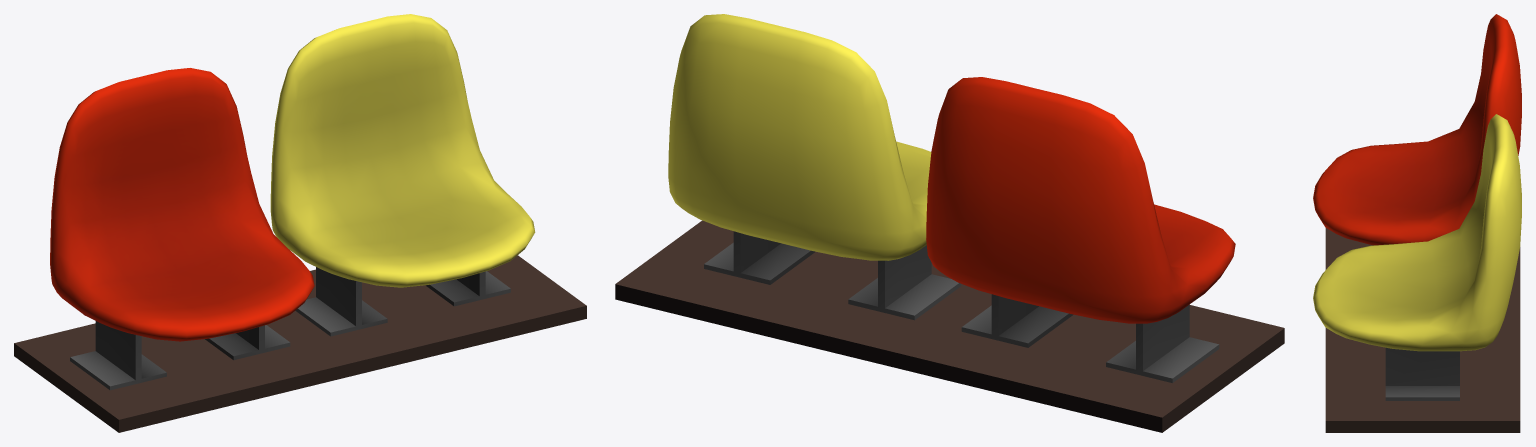
File: StadiumChairs_Two.fbx
The picture shows the model from 3 angles, left to right: view 1: azimuth 30°, elevation 25°; view 2: azimuth 150°, elevation 25°; view 3: azimuth 270°, elevation 25°; orthographic projection. The views are drawn at different scales.
Visible parts, largest first — view 1: StadiumChairs_Two; view 2: StadiumChairs_Two; view 3: StadiumChairs_Two.
Part boxes in pixels (x1,y1,x2,y2): StadiumChairs_Two: (14,14,586,432); StadiumChairs_Two: (615,14,1284,432); StadiumChairs_Two: (1313,14,1521,432).
Bounding box in the file's own units: 161 × 84.77 × 66.82.
